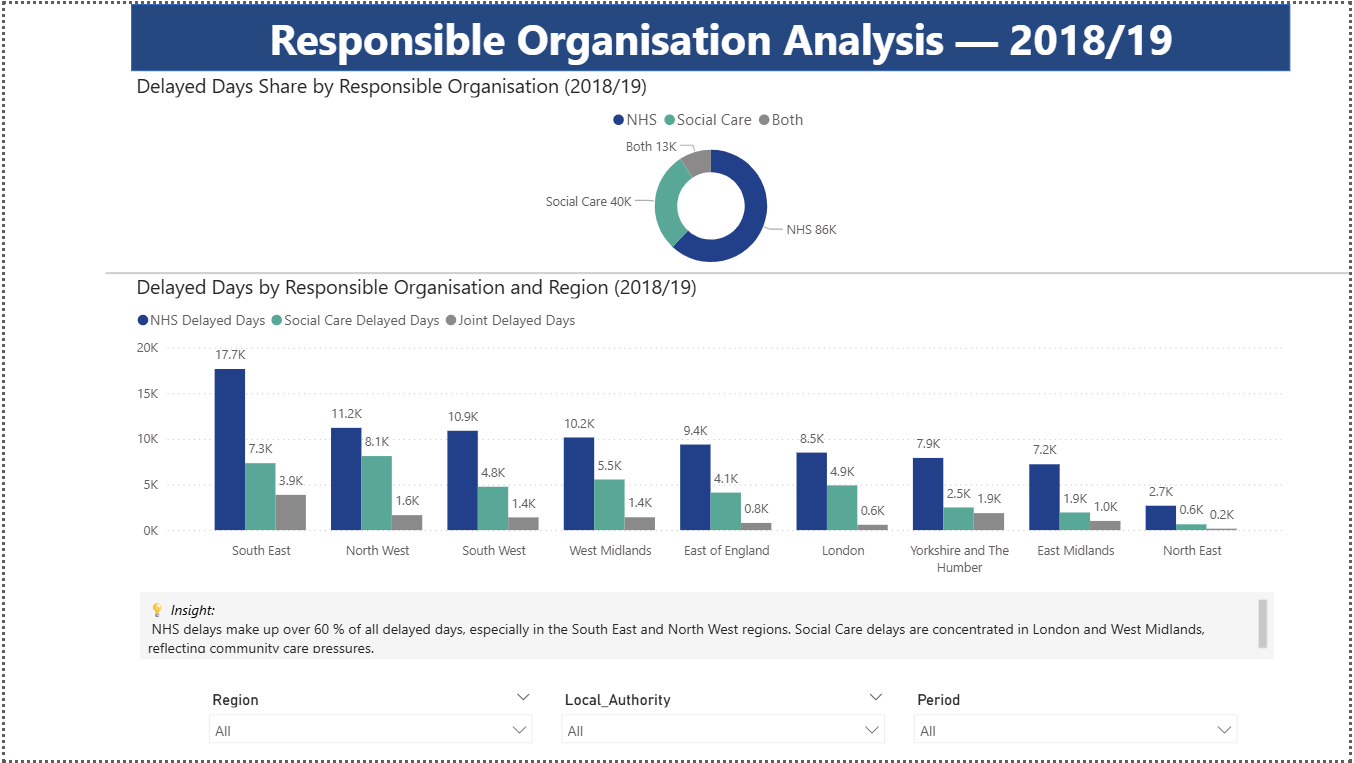

The page's visual inventory and layout, read from the dashboard file:
{"tool":"powerbi","page":{"name":"Responsible Organisation Analysis","canvas":[1280,720],"ordinal":2},"visuals":[{"type":"slicer","fields":{"Values":["LA - by type of care.Region"]},"box":[184,648,328,64],"z":0,"group":"g1"},{"type":"shape","box":[120,0,1104,64],"z":0},{"type":"slicer","fields":{"Values":["LA - by type of care.Local_Authority"]},"box":[520,648,328,71.1],"z":1000,"group":"g1"},{"type":"donutChart","title":"Delayed Days Share by Responsible Organisation (2018/19)","fields":{"Y":["Responsible Type.Delayed Days by Responsible"],"Category":["Responsible Type.Responsible"]},"box":[120,64,1104,200],"z":1000},{"type":"slicer","fields":{"Values":["LA - by type of care.Period"]},"box":[856,648,328,72],"z":2000,"group":"g1"},{"type":"clusteredColumnChart","title":"Delayed Days by Responsible Organisation and Region (2018/19)","fields":{"Category":["LA - by responsible org.Region"],"Y":["LA - by responsible org.NHS Delayed Days","LA - by responsible org.Social Care Delayed Days","LA - by responsible org.Joint Delayed Days"]},"box":[120,256,1104,296],"z":2000},{"type":"textbox","box":[128,560,1080,64],"z":3000},{"type":"group","id":"g1","title":"Group 2","box":[184,648,1000,72],"z":4000},{"type":"shape","box":[96,104,1184,304],"z":5000}]}

Visuals, with their boxes in screenshot pixels (x1, y1, x2, y2), scaled from the page's 1280x720 canvas onto the 1354x763 screenshot:
slicer - LA - by type of care.Region: [left=195, top=687, right=542, bottom=755]
shape: [left=127, top=0, right=1295, bottom=68]
slicer - LA - by type of care.Local_Authority: [left=550, top=687, right=897, bottom=762]
"Delayed Days Share by Responsible Organisation (2018/19)" donutChart: [left=127, top=68, right=1295, bottom=280]
slicer - LA - by type of care.Period: [left=905, top=687, right=1252, bottom=762]
"Delayed Days by Responsible Organisation and Region (2018/19)" clusteredColumnChart: [left=127, top=271, right=1295, bottom=585]
textbox: [left=135, top=593, right=1278, bottom=661]
"Group 2" group: [left=195, top=687, right=1252, bottom=762]
shape: [left=102, top=110, right=1353, bottom=432]
